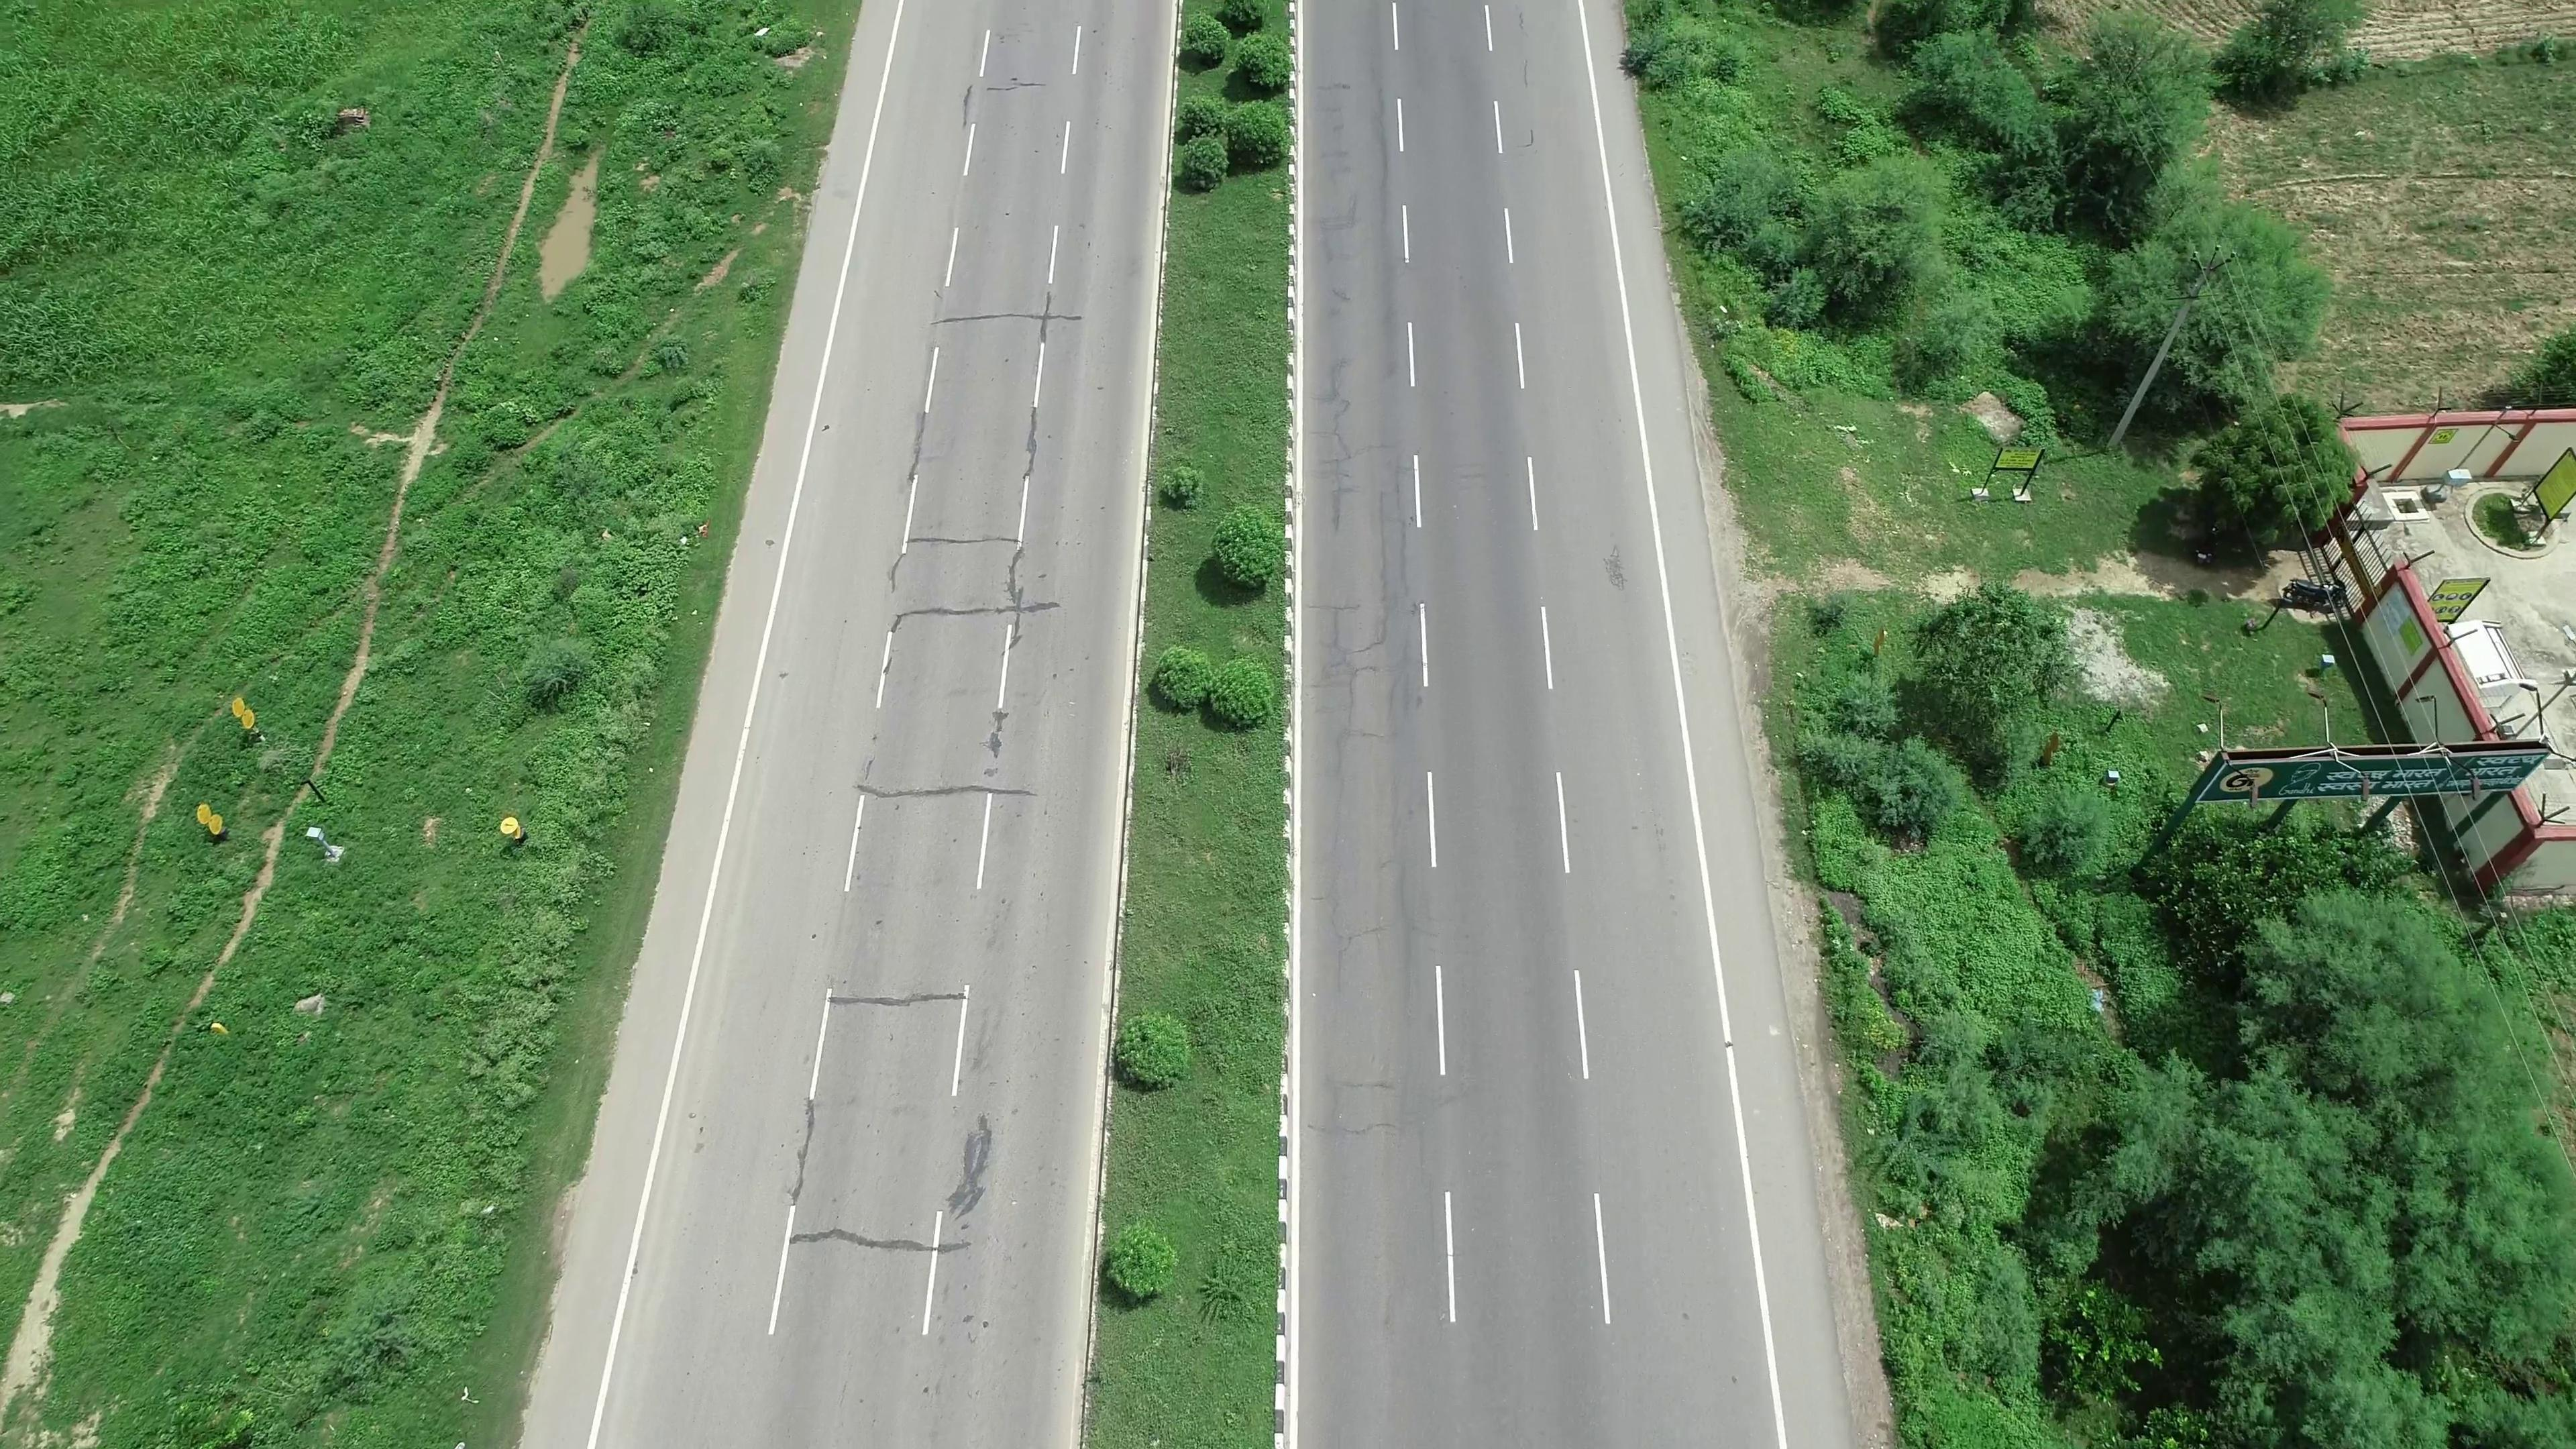Longitudinal_cracks: (1330, 596, 1371, 846), (1371, 455, 1415, 656), (1322, 333, 1366, 524)
